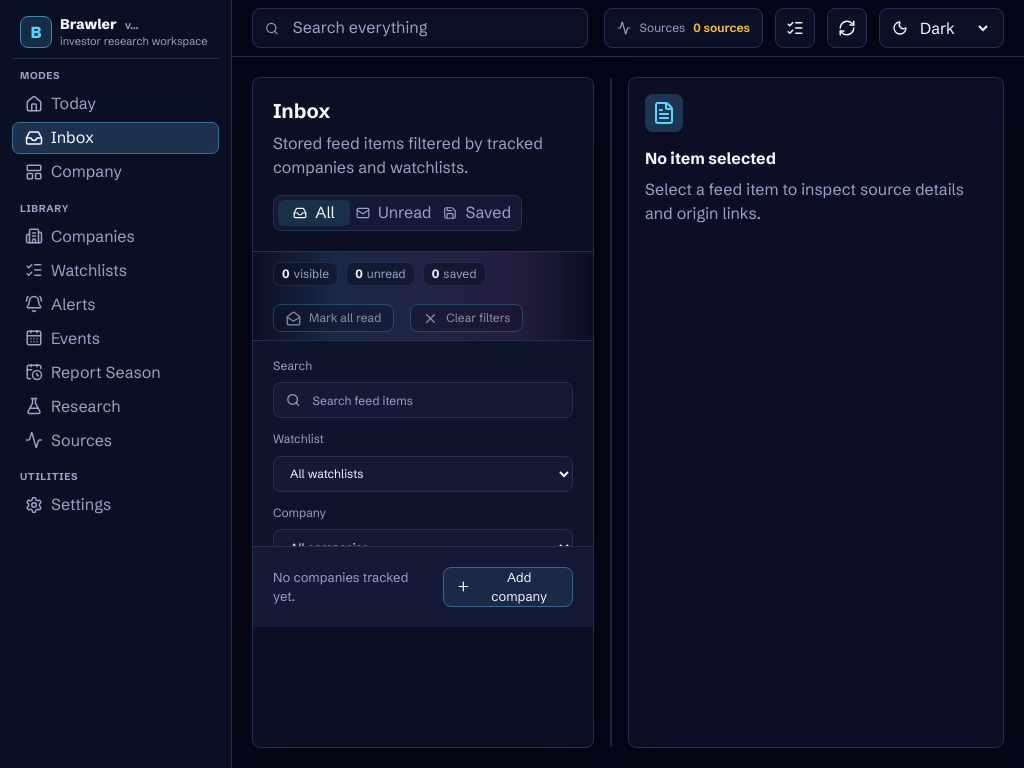
it: App shell › opens the global command palette on Ctrl+K
Expected: the heading "Inbox" is shown, [273,98,330,123]
# Ctrl+K opens the global command palette (v0.50 U6), not focusing search.
Press K
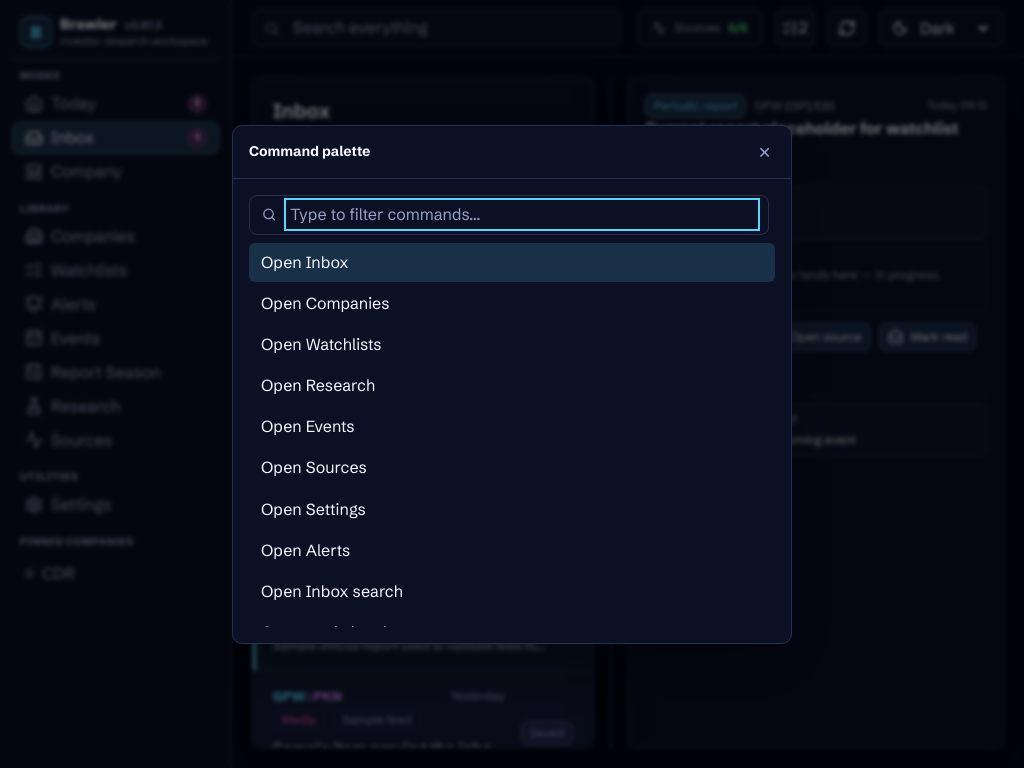
Now the option "Open Settings" is shown
# Running a listed command navigates and closes the palette.
Click the option "Open Settings".
click(313, 509)  # box [261,499,366,519]
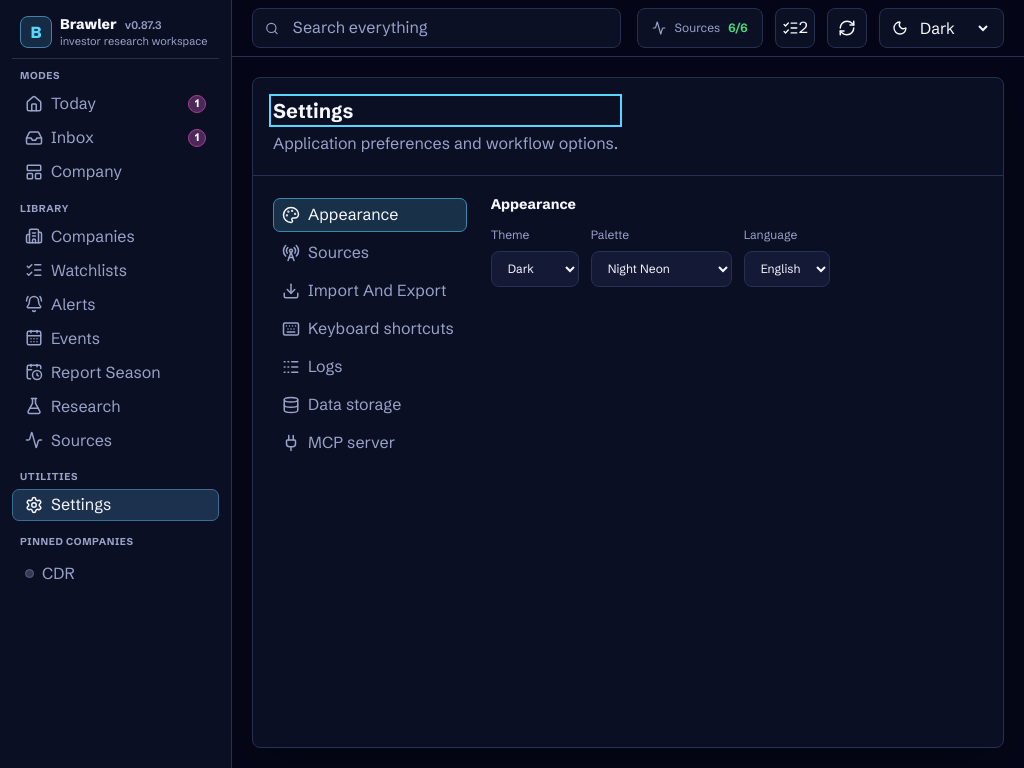
Now the heading "Settings" is shown, box [273,98,353,123]
Now the heading "Command palette" is gone
